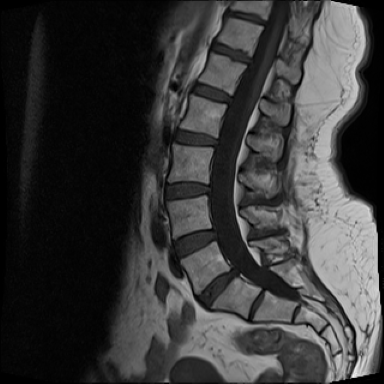Degenerative Disc Disease (DDD): (190, 269, 241, 313), (223, 8, 269, 29)
Normal IVD: (168, 223, 220, 266), (161, 176, 214, 207), (186, 76, 236, 108), (167, 124, 221, 153)
Thoracic Disc Bulge (TDB): (207, 40, 256, 68)
